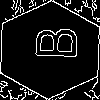B: (25, 25, 78, 60)
